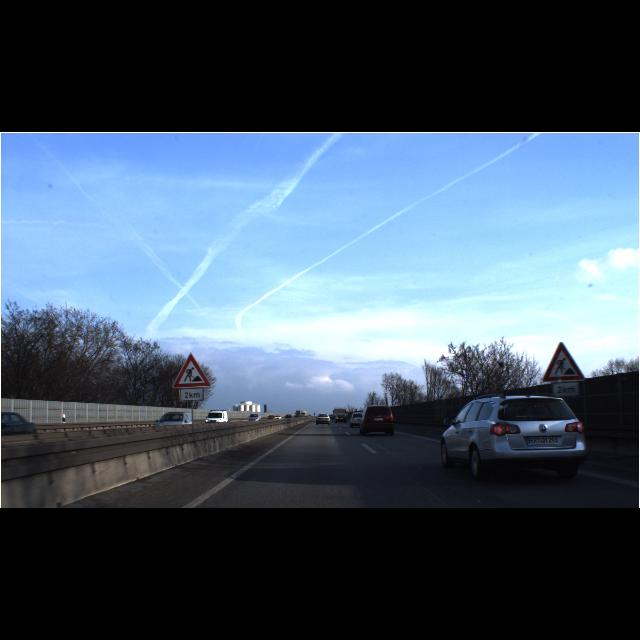danger: (542, 342, 586, 382), (172, 353, 212, 389)
